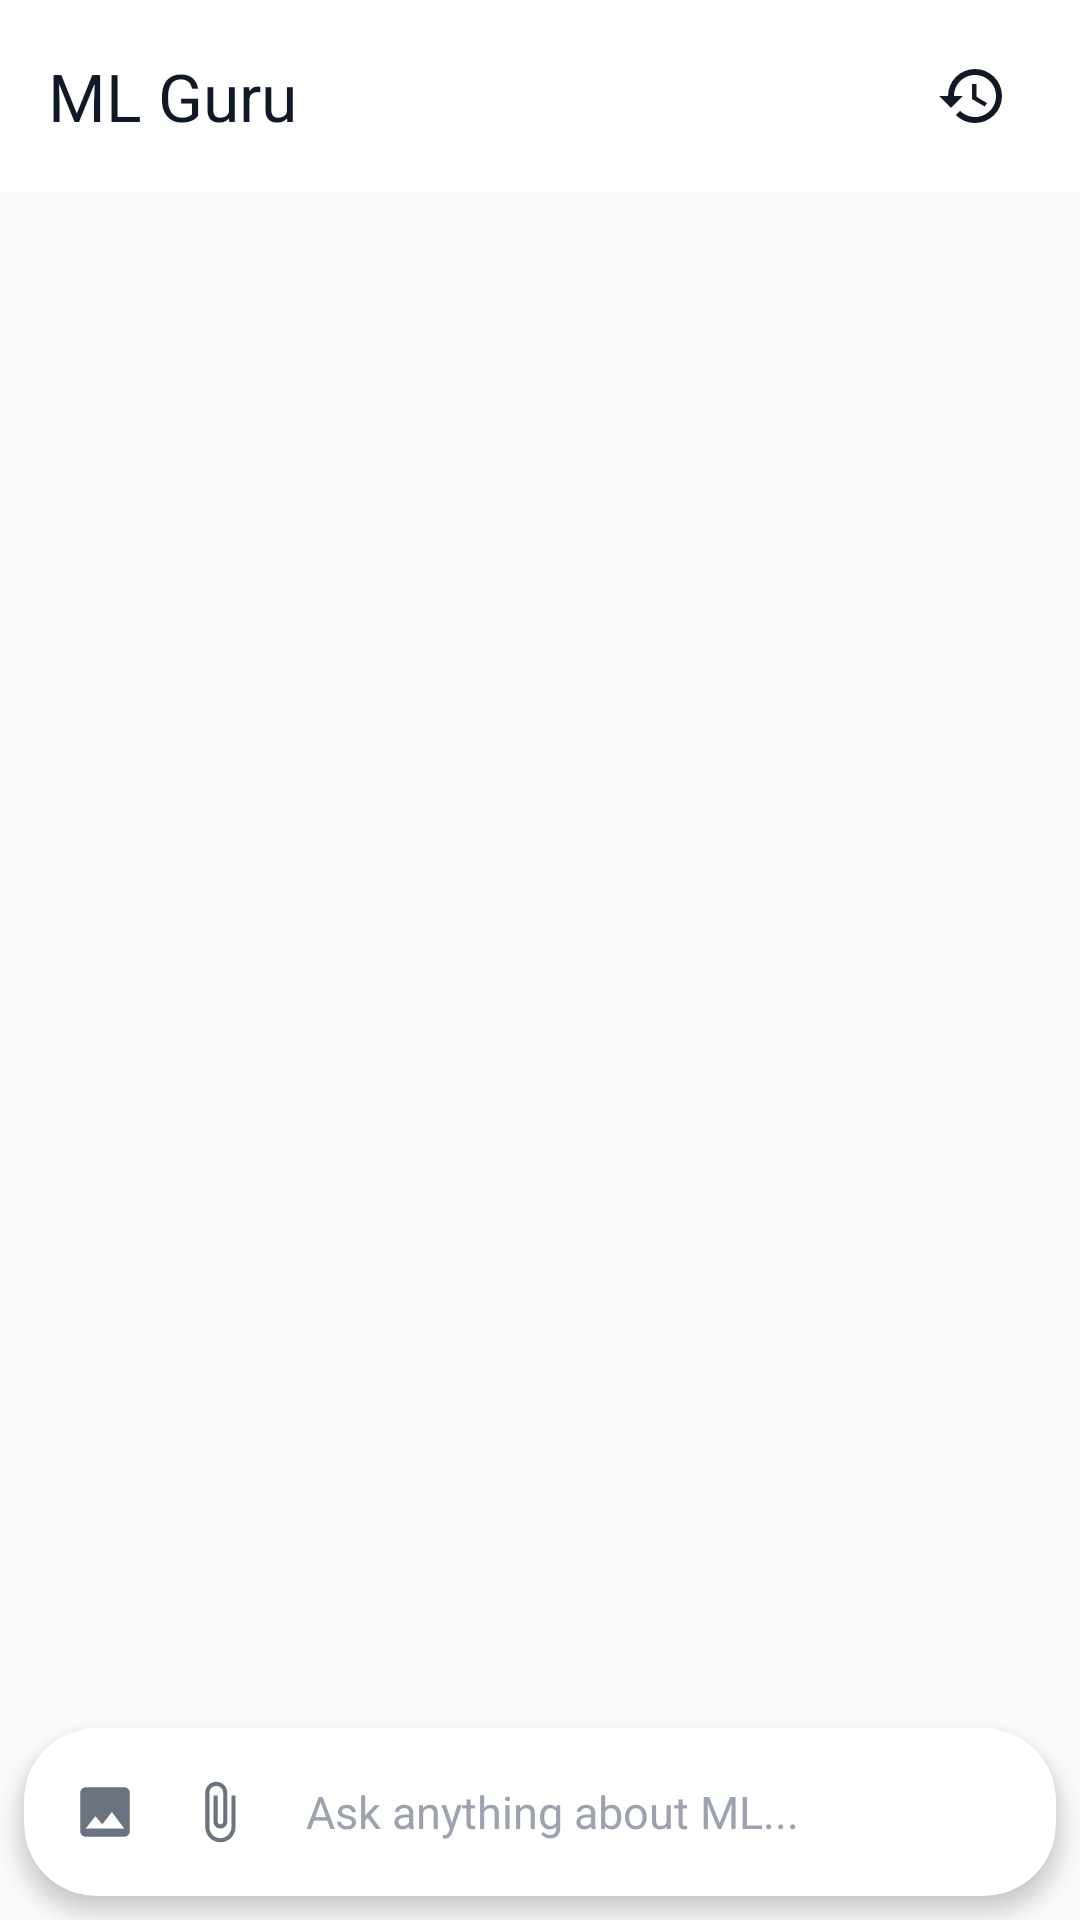

Icon click points for this 1080w x 1920h phone screenshot, format point (x, y):
Attach Document: point (220, 1812)
Attach Image: point (105, 1812)
History: point (970, 96)
